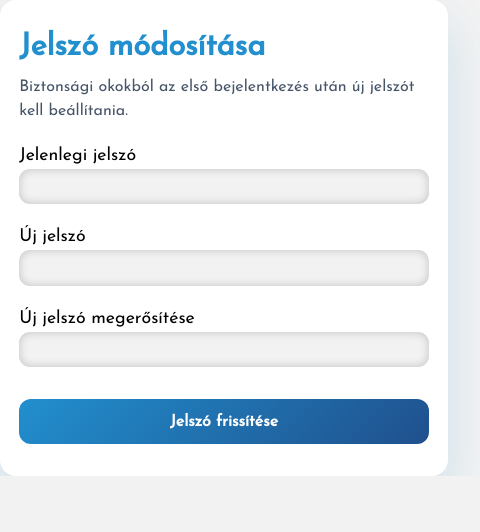
ChangePasswordModal › should show error message on API failure
In the password field labelled "Jelenlegi jelszó": (224, 187) [19, 169, 429, 204], type "wrong-old-password"
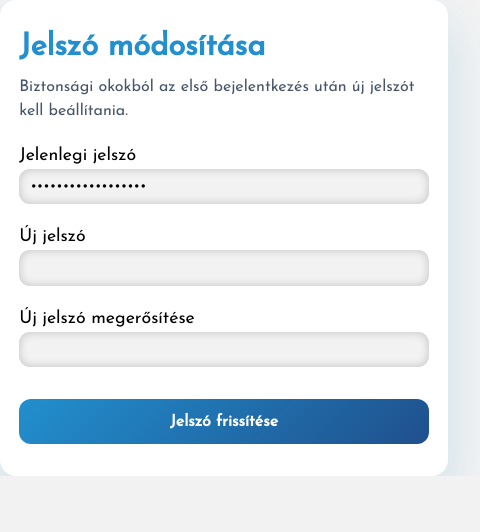
In the password field labelled "Új jelszó": (224, 268) [19, 250, 429, 286], type "valid-new-password"
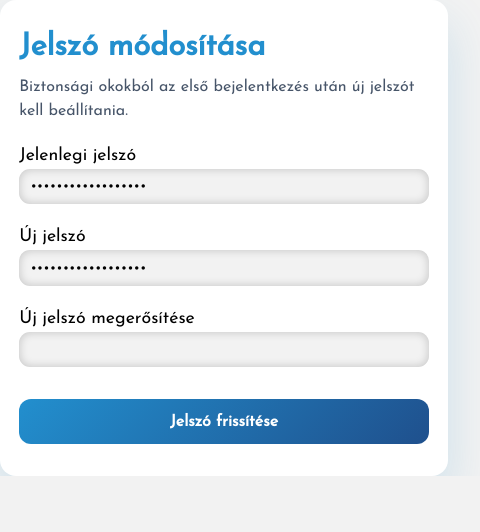
In the password field labelled "Új jelszó megerősítése": (224, 350) [19, 332, 429, 367], type "valid-new-password"
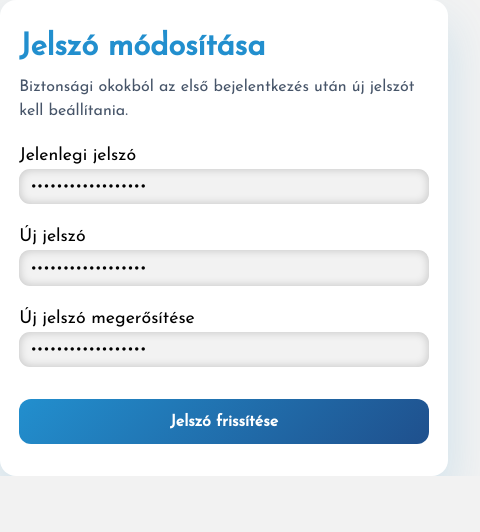
Click the button "Jelszó frissítése": (224, 422) [19, 399, 429, 444]
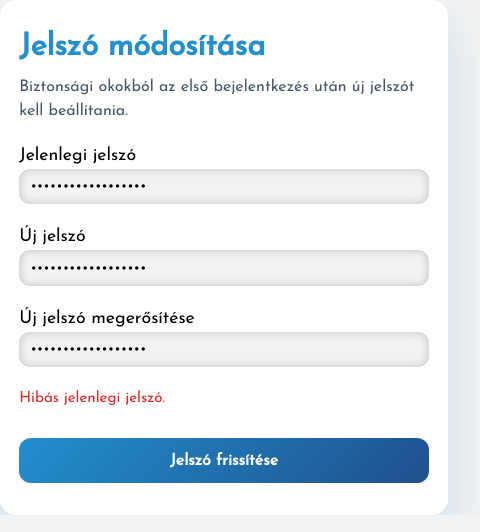
Expected: the text "Hibás jelenlegi jelszó." is shown, [19, 391, 165, 406]
